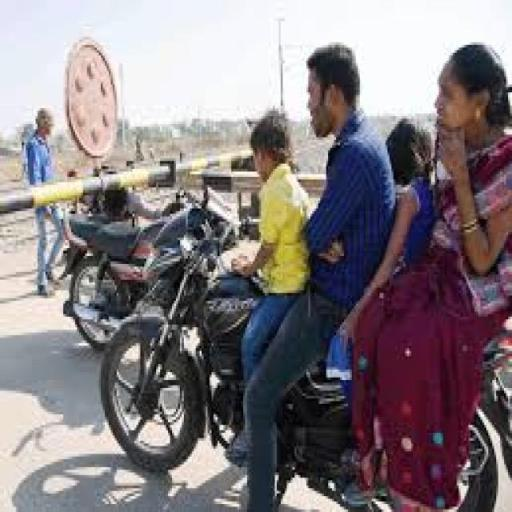no helmet: (287, 44, 380, 182)
triple riding: (92, 42, 512, 512)
